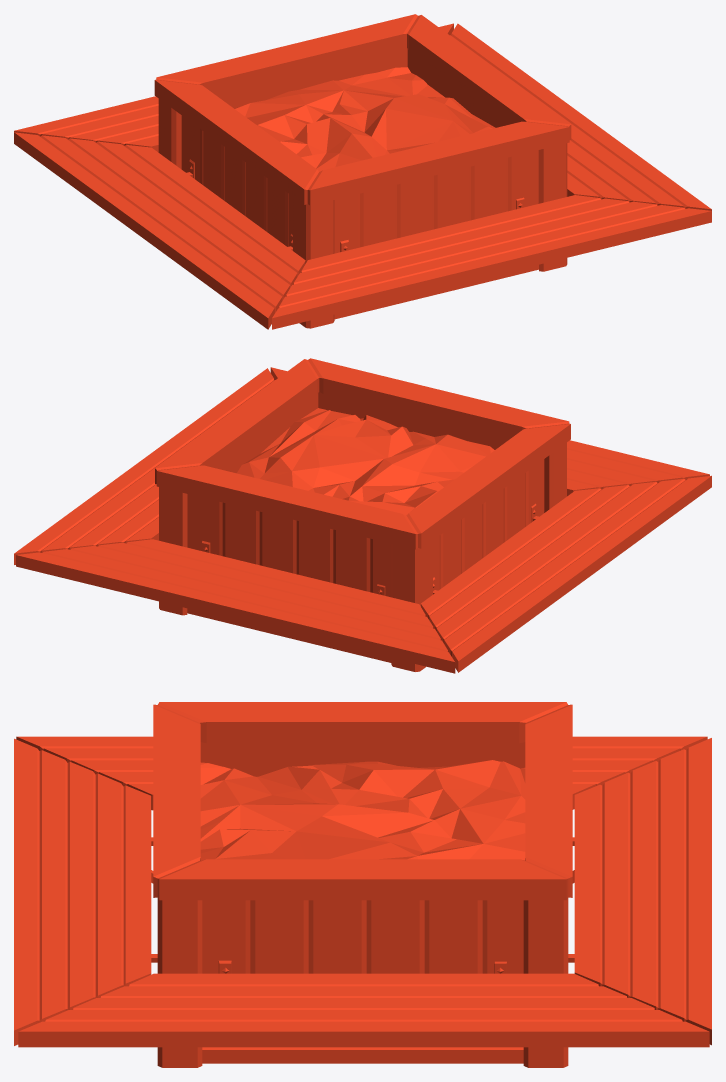
Rendered from SM_Pot_Tree_Bench_B.fbx.
3 renders of one model, top to bottom at view 1: azimuth 30°, elevation 25°; view 2: azimuth 150°, elevation 25°; view 3: azimuth 270°, elevation 25°, orthographic. The views are drawn at different scales.
Visible parts, largest first — view 1: SM_Pot_Tree_Bench_B; view 2: SM_Pot_Tree_Bench_B; view 3: SM_Pot_Tree_Bench_B.
Boxes of the visible parts, x1,y1,x2,y2 form: SM_Pot_Tree_Bench_B: (14, 14, 711, 329); SM_Pot_Tree_Bench_B: (14, 358, 711, 673); SM_Pot_Tree_Bench_B: (14, 702, 711, 1067).
Bounding box in the file's own units: 3.33 × 1 × 3.33.
